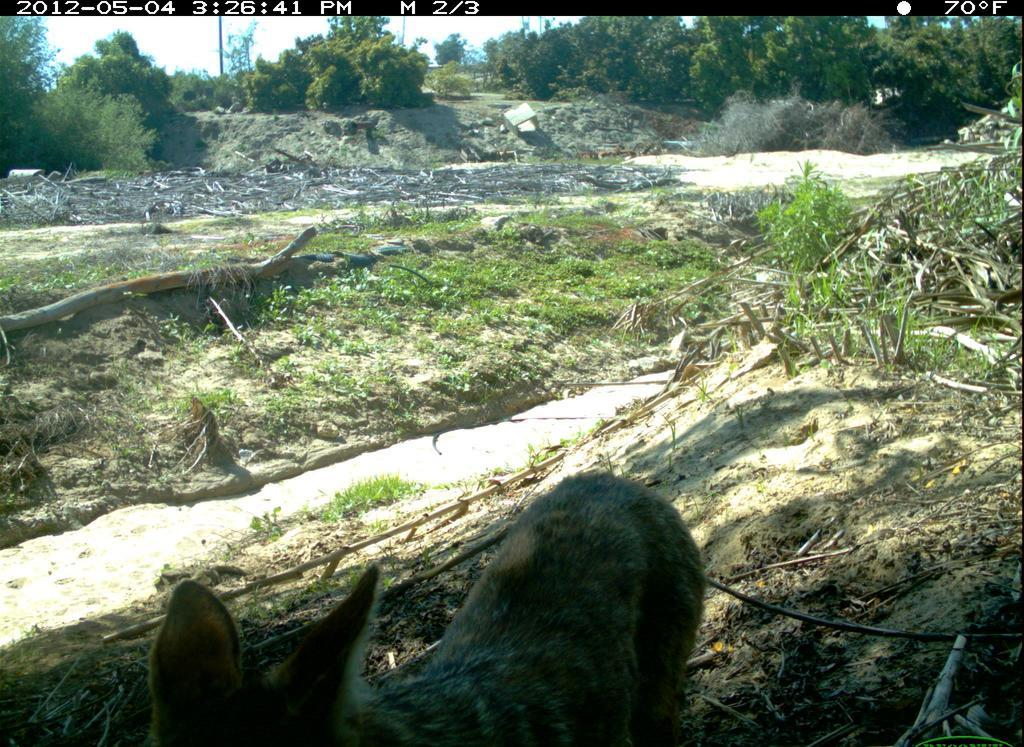coyote: (131, 459, 728, 740)
